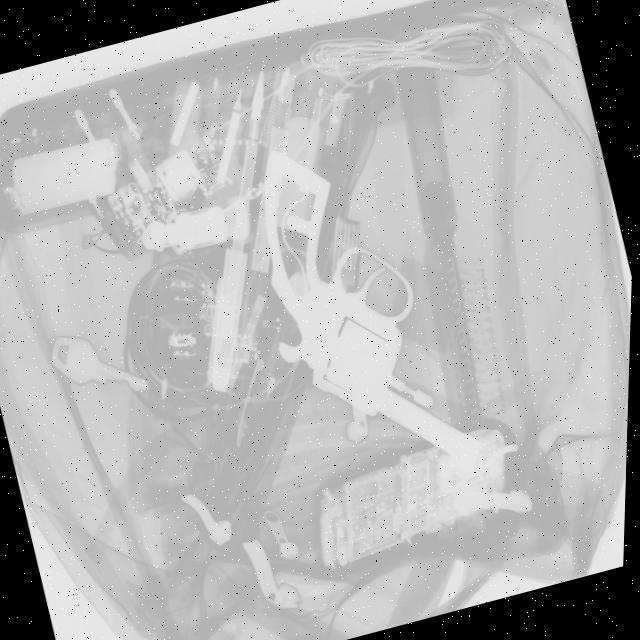pistol: (226, 116, 495, 504)
